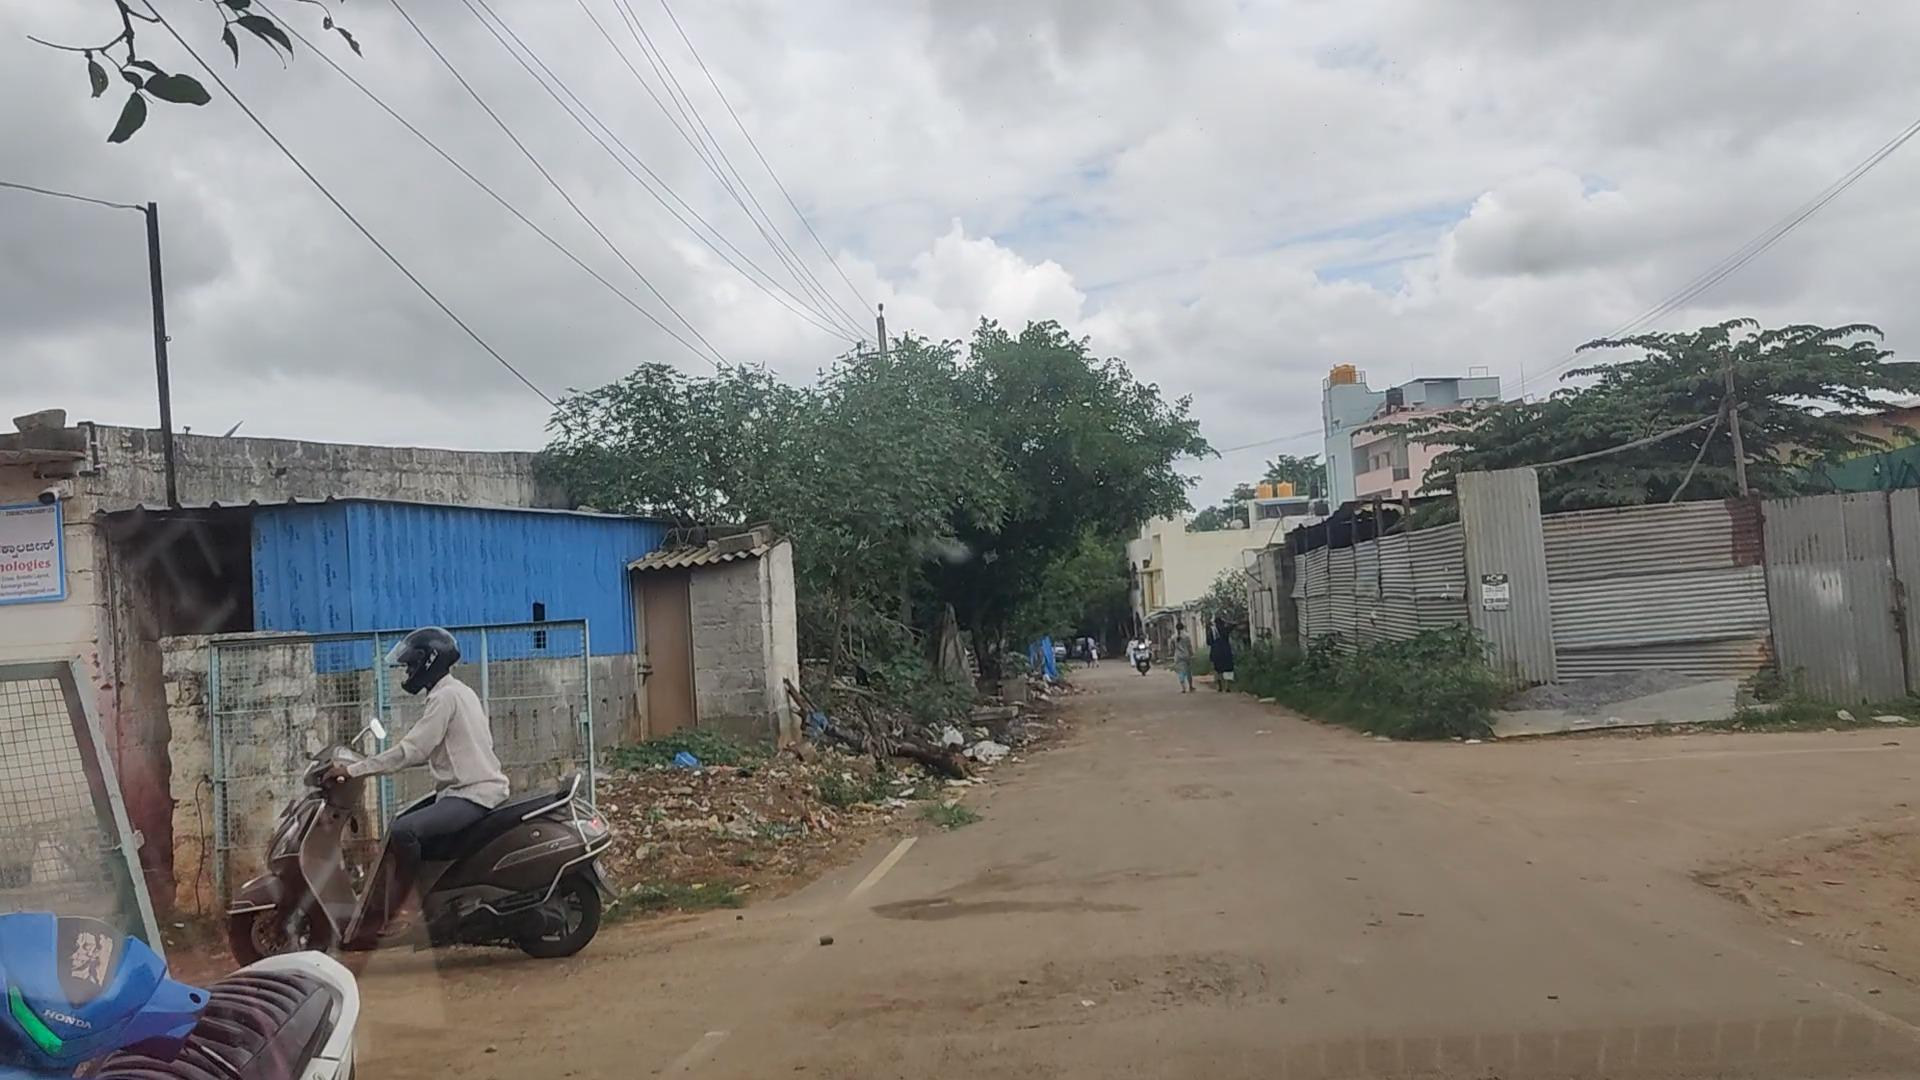LMV: (277, 616, 591, 968)
RoadDamages: (858, 943, 1271, 1042)
